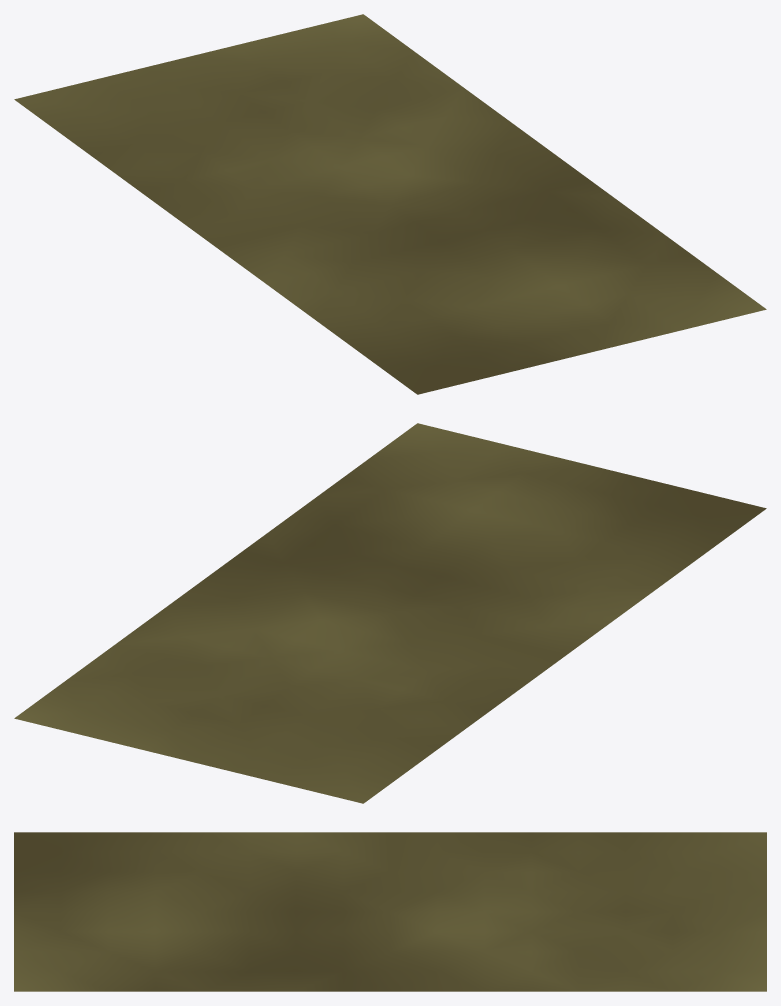
File: terrain_lod1_-8_-1.obj
The picture shows the model from 3 angles, top to bottom: view 1: azimuth 30°, elevation 25°; view 2: azimuth 150°, elevation 25°; view 3: azimuth 270°, elevation 25°; orthographic projection. The views are drawn at different scales.
Parts seen in each view (by area): view 1: terrain_lod1_-8_-1; view 2: terrain_lod1_-8_-1; view 3: terrain_lod1_-8_-1.
Boxes of the visible parts, x1,y1,x2,y2 form: terrain_lod1_-8_-1: [14, 14, 766, 394]; terrain_lod1_-8_-1: [14, 423, 766, 803]; terrain_lod1_-8_-1: [14, 832, 766, 991].
Size of the model in its own units: 64 by 0 by 128.
